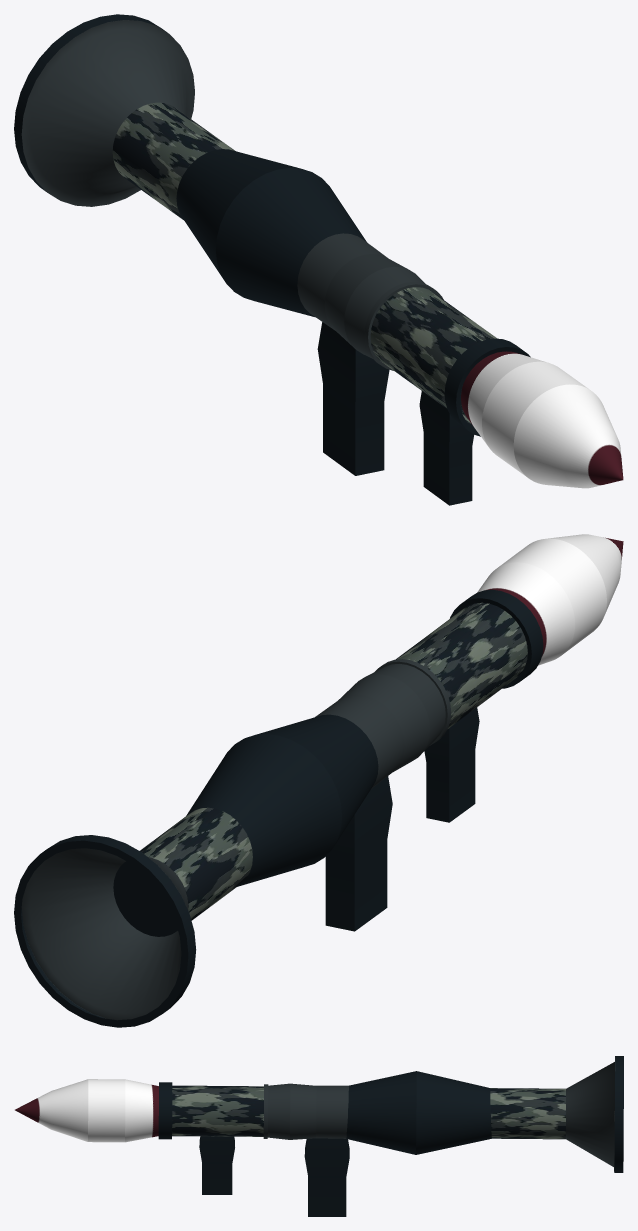
Rendered from rocket_launcher.glb.
3 views of the same model, one above another, from view 1: azimuth 30°, elevation 25°; view 2: azimuth 150°, elevation 25°; view 3: azimuth 270°, elevation 25° (orthographic). The views are drawn at different scales.
Parts seen in each view (by area): view 1: Cube; view 2: Cube; view 3: Cube.
Part boxes in pixels (x1,y1,x2,y2): Cube: (14,14,623,505); Cube: (14,534,623,1027); Cube: (15,1056,623,1216).
Size of the model in its own units: 2.22 by 3.17 by 11.57.
Materials: 1 (1 with a texture image).
